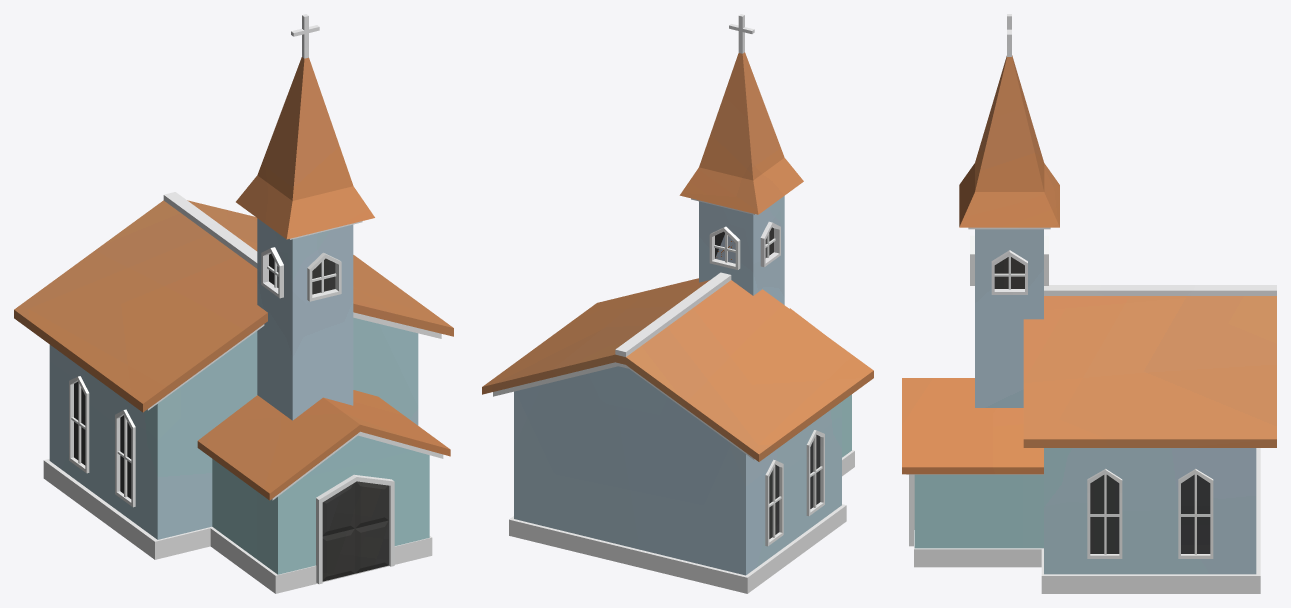
3 renders of one model, left to right at view 1: azimuth 30°, elevation 25°; view 2: azimuth 150°, elevation 25°; view 3: azimuth 270°, elevation 25°, orthographic. The views are drawn at different scales.
Visible parts, largest first — view 1: Cube.003_Cube.001; view 2: Cube.003_Cube.001; view 3: Cube.003_Cube.001.
Boxes of the visible parts, x1,y1,x2,y2 form: Cube.003_Cube.001: (14,14,453,593); Cube.003_Cube.001: (482,14,873,593); Cube.003_Cube.001: (902,14,1276,593).
Size of the model in its own units: 18.98 by 30.53 by 20.16.
1 material, 1 textured.
